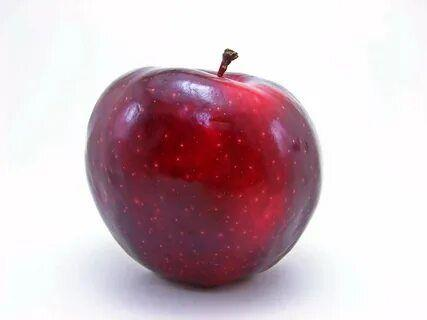Apple: (84, 66, 322, 288)
